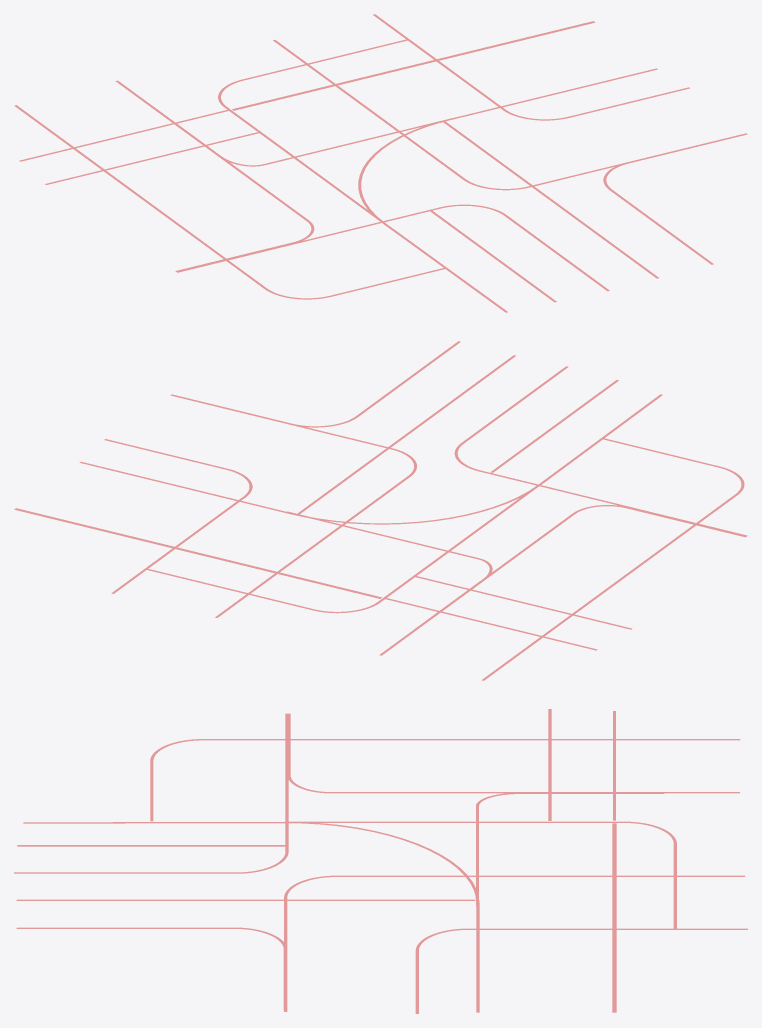
The model's file is Traffic.gltf.
The picture shows the model from 3 angles, top to bottom: view 1: azimuth 30°, elevation 25°; view 2: azimuth 150°, elevation 25°; view 3: azimuth 270°, elevation 25°; orthographic projection. The views are drawn at different scales.
Parts seen in each view (by area): view 1: Traffic; view 2: Traffic; view 3: Traffic.
Boxes of the visible parts, x1=… form: Traffic: x1=14, y1=14, x2=747, y2=312; Traffic: x1=14, y1=341, x2=747, y2=680; Traffic: x1=14, y1=709, x2=747, y2=1013.
Size of the model in its own units: 159 by 0.295 by 161.
